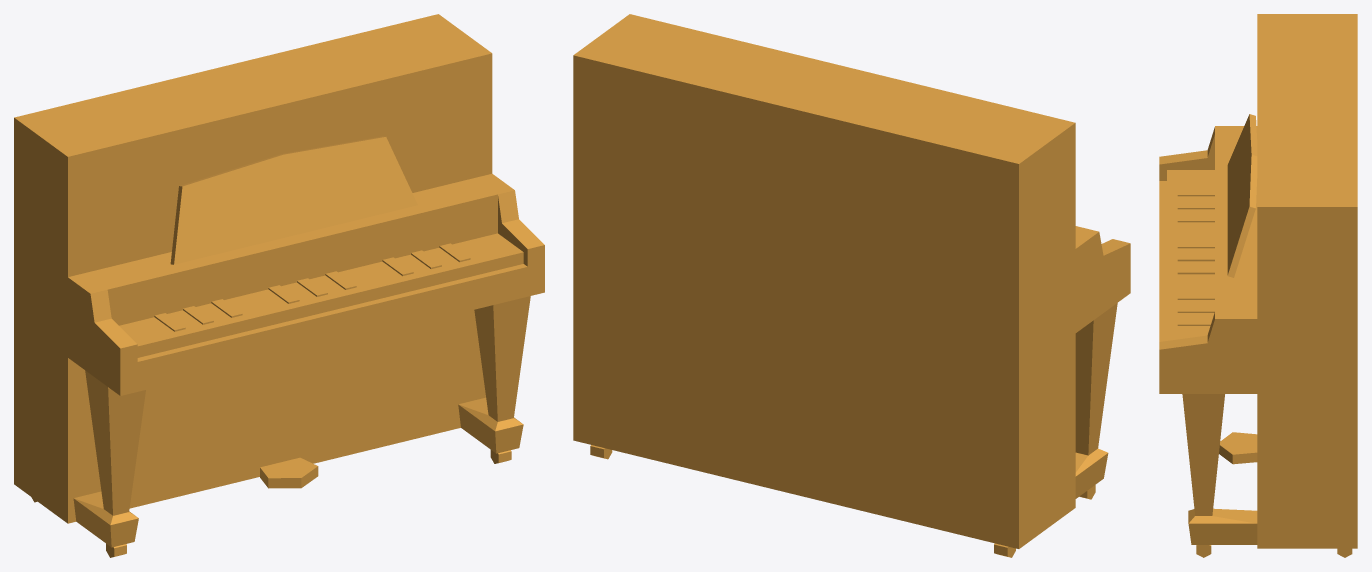
Rendered from pianino.fbx.
3 renders of one model, left to right at view 1: azimuth 30°, elevation 25°; view 2: azimuth 150°, elevation 25°; view 3: azimuth 270°, elevation 25°, orthographic. The views are drawn at different scales.
Visible parts, largest first — view 1: pianino; view 2: pianino; view 3: pianino.
Part boxes in pixels (x1,y1,x2,y2): pianino: (14, 14, 544, 557); pianino: (573, 14, 1130, 557); pianino: (1159, 14, 1357, 557).
Size of the model in its own units: 1.49 by 1.29 by 0.6458.
